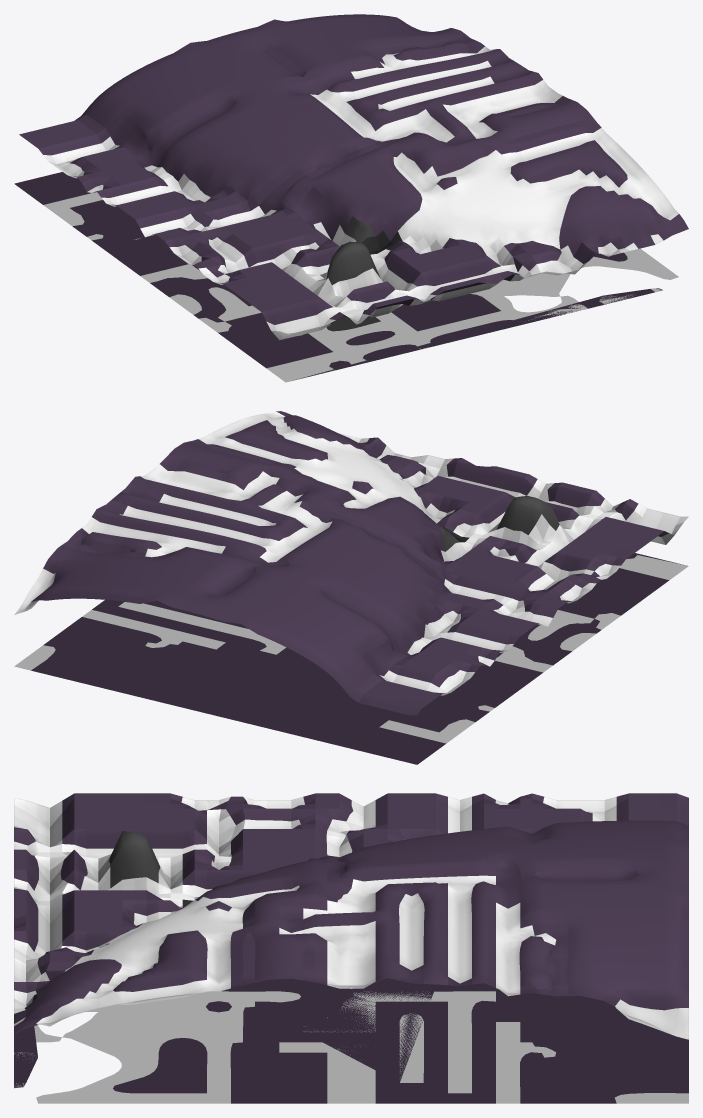
The model's file is delbld-hull-554.glb.
The picture shows the model from 3 angles, top to bottom: view 1: azimuth 30°, elevation 25°; view 2: azimuth 150°, elevation 25°; view 3: azimuth 270°, elevation 25°; orthographic projection. The views are drawn at different scales.
Visible parts, largest first — view 1: delbld-hull-554; view 2: delbld-hull-554; view 3: delbld-hull-554.
Boxes of the visible parts, x1=… form: delbld-hull-554: x1=14, y1=14, x2=688, y2=382; delbld-hull-554: x1=14, y1=411, x2=688, y2=764; delbld-hull-554: x1=14, y1=793, x2=688, y2=1103.
Bounding box in the file's own units: 2 × 0.4799 × 2.33.
Materials: 5 (5 with a texture image).
